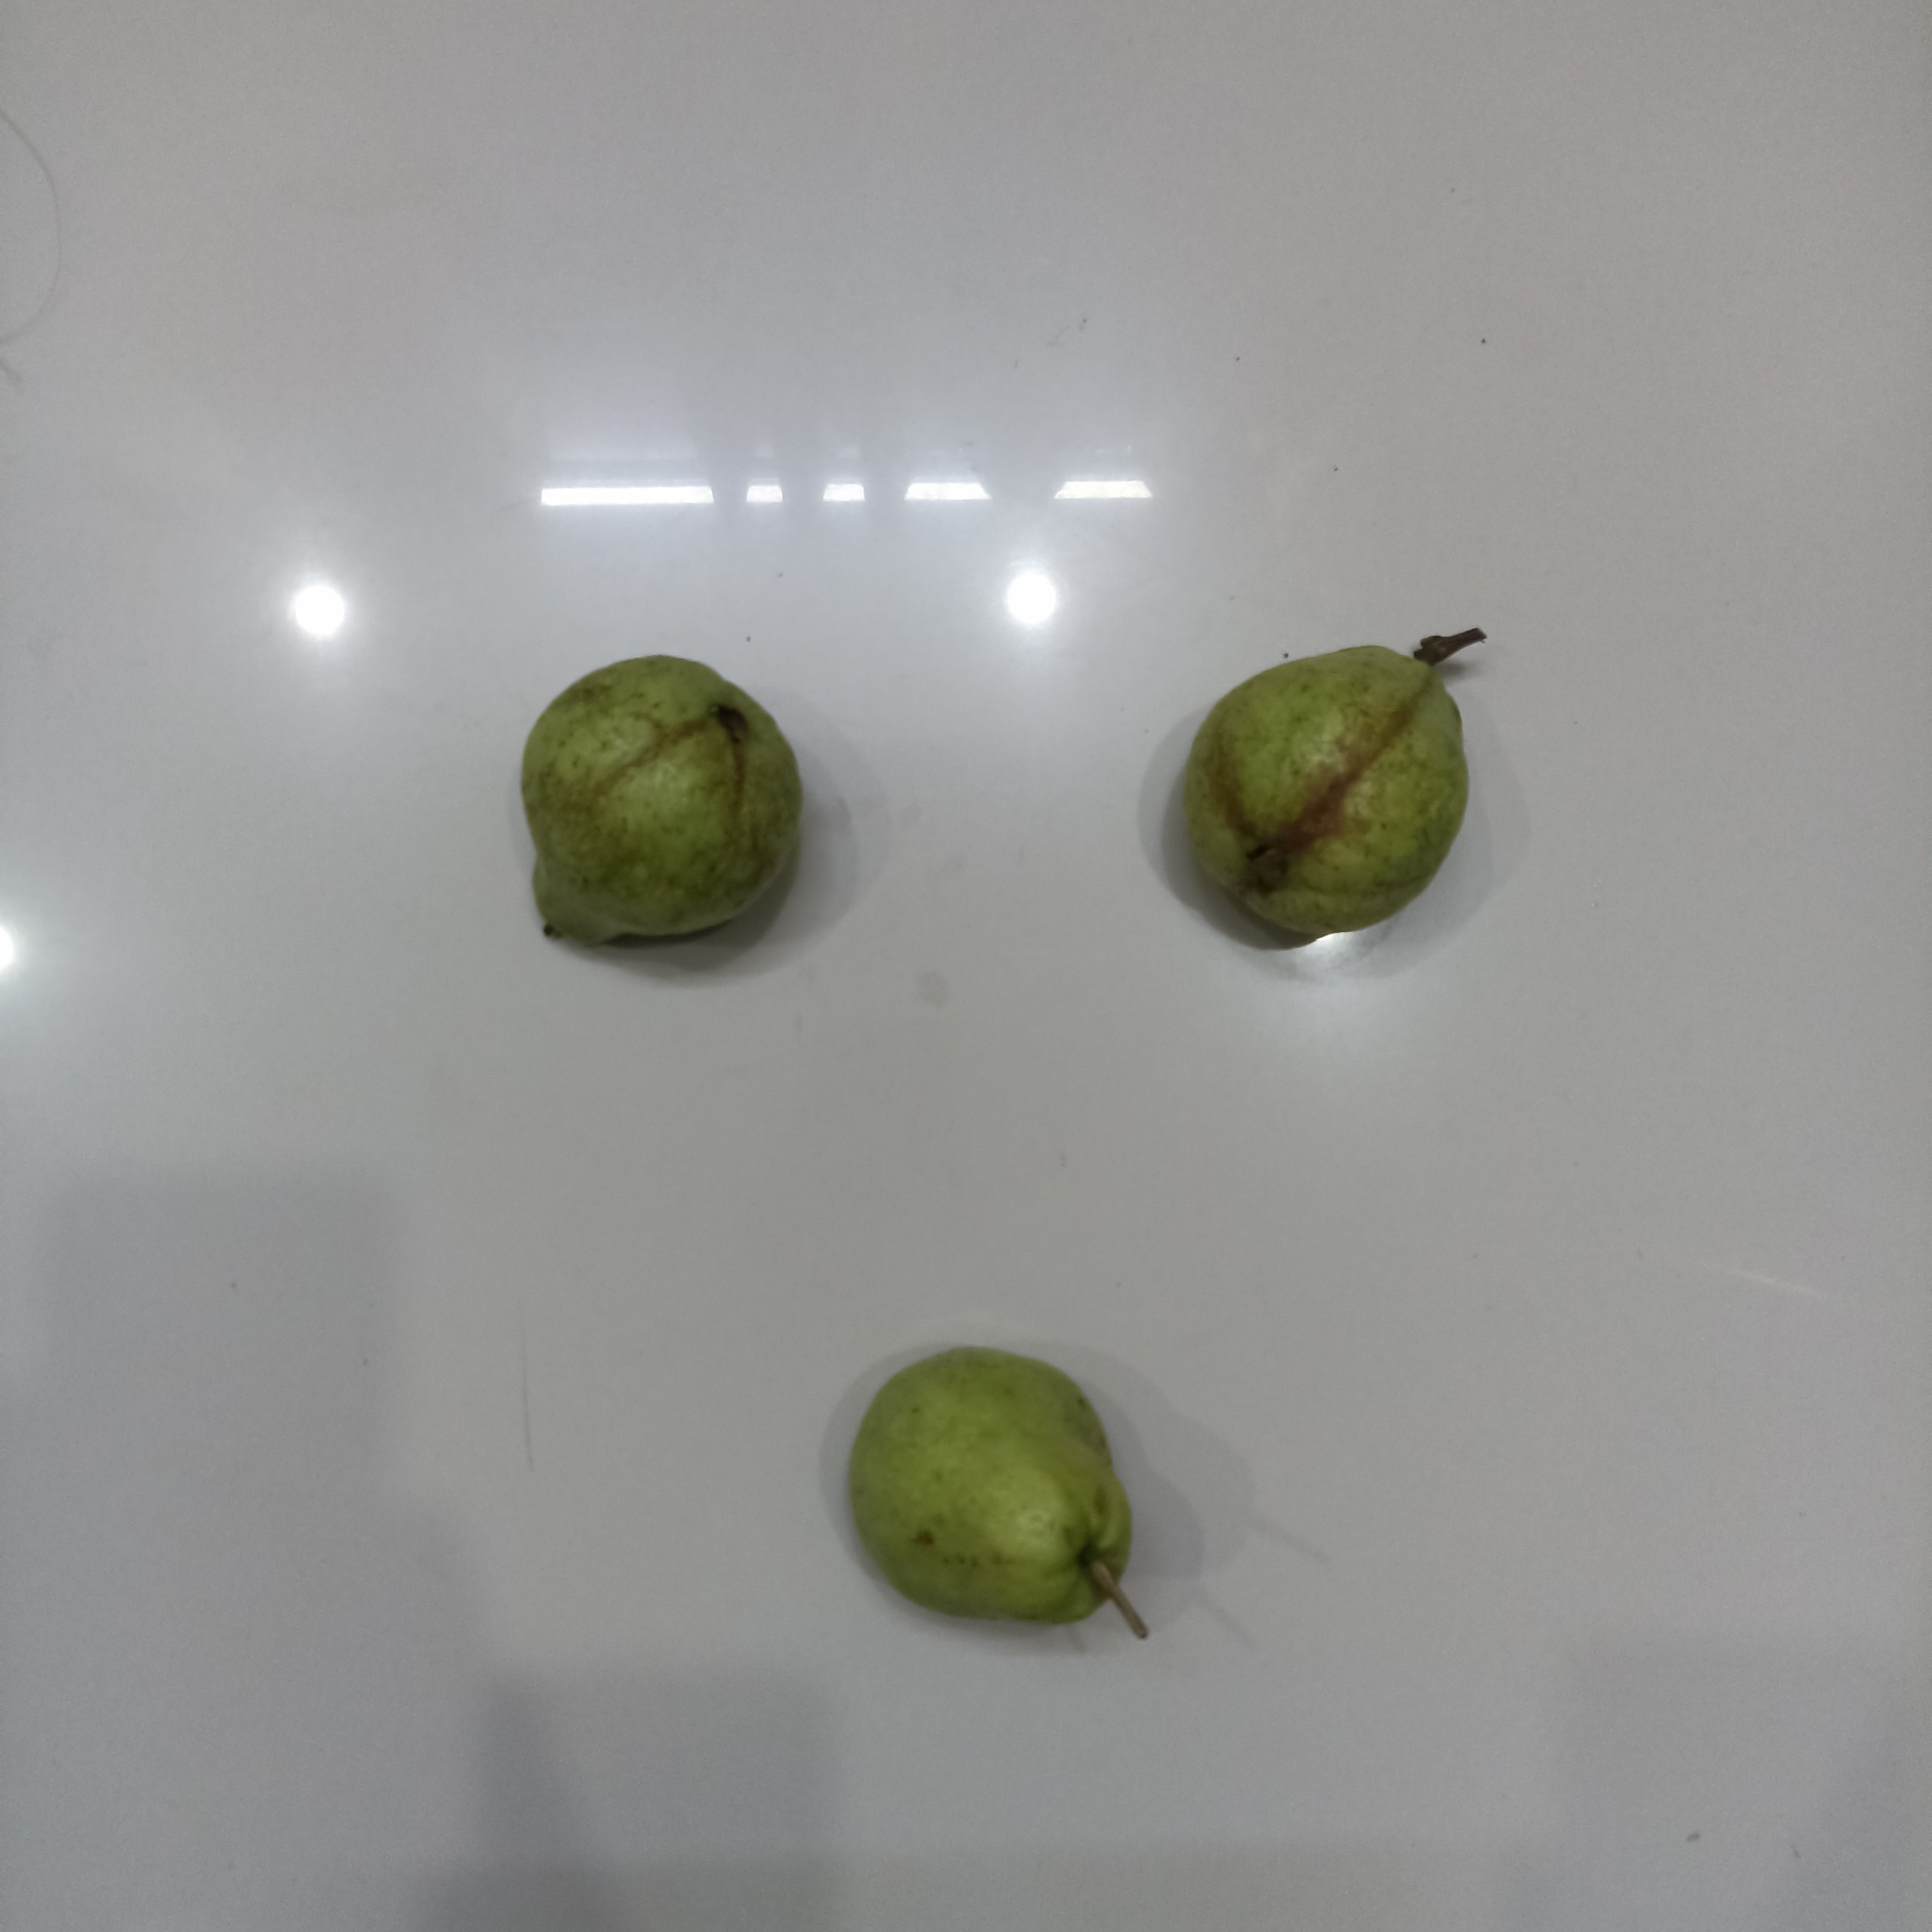Oi: (515, 648, 811, 957), (1178, 635, 1474, 942), (845, 1343, 1139, 1638)
